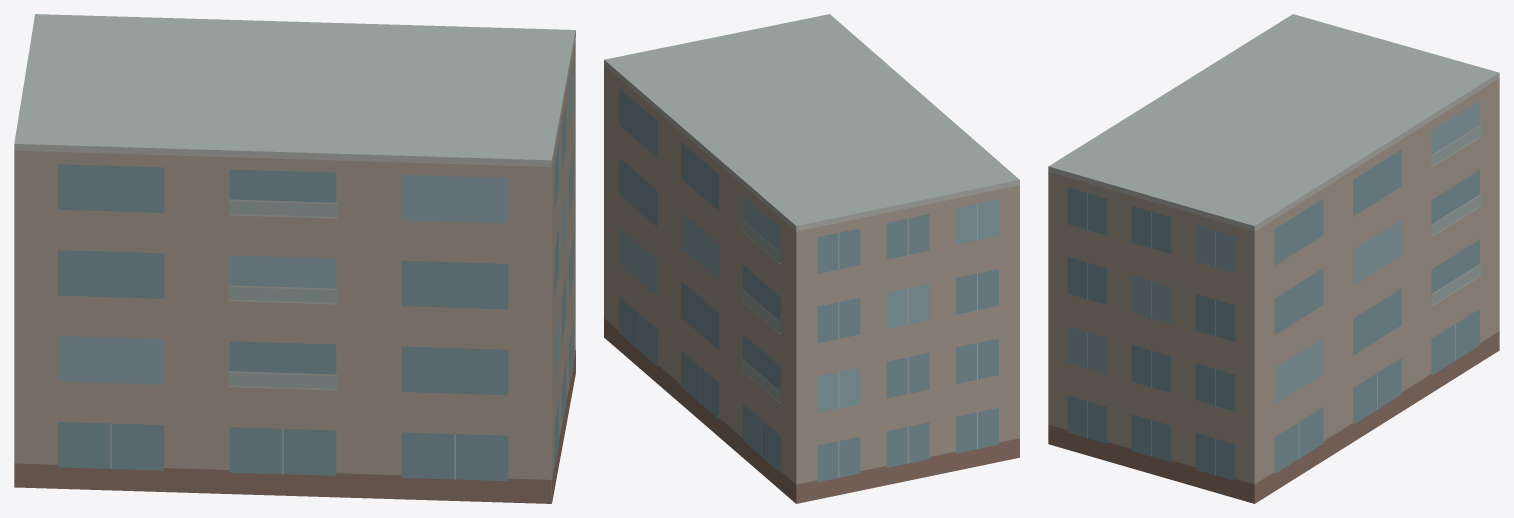
The model's file is survey-upis-32886895.glb.
3 views of the same model, side by side, from view 1: azimuth 30°, elevation 25°; view 2: azimuth 150°, elevation 25°; view 3: azimuth 270°, elevation 25° (orthographic). The views are drawn at different scales.
Visible parts, largest first — view 1: survey-upis-32886895.tmp; view 2: survey-upis-32886895.tmp; view 3: survey-upis-32886895.tmp.
Boxes of the visible parts, x1,y1,x2,y2 form: survey-upis-32886895.tmp: [14, 14, 575, 503]; survey-upis-32886895.tmp: [604, 14, 1019, 503]; survey-upis-32886895.tmp: [1048, 14, 1499, 503].
Bounding box in the file's own units: 20.32 × 12.4 × 18.27.
